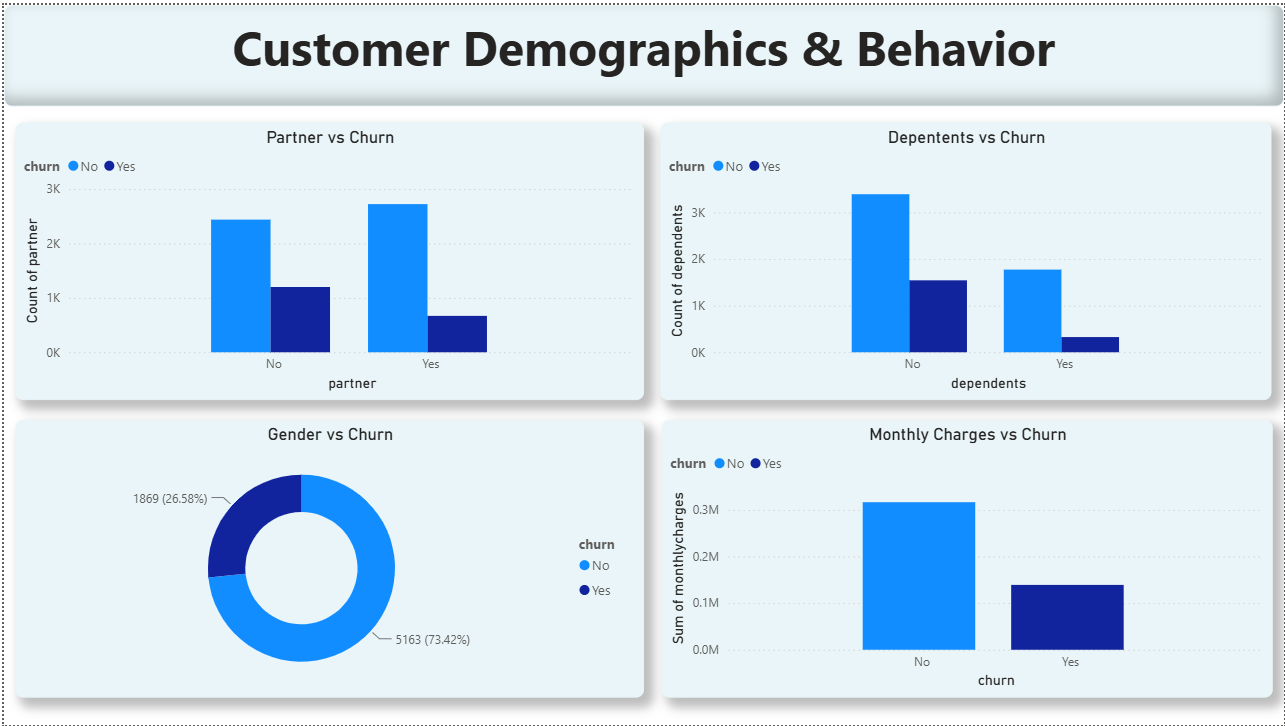

The dashboard page shown, as its layout file describes it:
{"tool":"powerbi","page":{"name":"Customer Demographics & Behavior","canvas":[1280,720],"ordinal":1},"visuals":[{"type":"clusteredColumnChart","title":"Partner vs Churn","fields":{"Series":["cleaned_telco_churn.churn"],"Category":["cleaned_telco_churn.partner"],"Y":["CountNonNull(cleaned_telco_churn.partner)"]},"box":[11.2,117.5,628.8,277.5],"z":0},{"type":"clusteredColumnChart","title":"Depentents vs Churn","fields":{"Series":["cleaned_telco_churn.churn"],"Category":["cleaned_telco_churn.dependents"],"Y":["CountNonNull(cleaned_telco_churn.dependents)"]},"box":[656.2,117.5,611.2,277.5],"z":1000},{"type":"donutChart","title":"Gender vs Churn","fields":{"Category":["cleaned_telco_churn.churn"],"Y":["CountNonNull(cleaned_telco_churn.gender)"]},"box":[11.2,415,628.8,277.5],"z":2000},{"type":"columnChart","title":"Monthly Charges vs Churn","fields":{"Category":["cleaned_telco_churn.churn"],"Y":["Sum(cleaned_telco_churn.monthlycharges)"],"Series":["cleaned_telco_churn.churn"]},"box":[657.5,415,611.2,277.5],"z":2001},{"type":"textbox","box":[0,0,1280,101.2],"z":2002}]}

Visuals, with their boxes in screenshot pixels (x1, y1, x2, y2), scaled from the page's 1280x720 canvas onto the 1285x726 screenshot:
"Partner vs Churn" clusteredColumnChart: 11,118,642,398
"Depentents vs Churn" clusteredColumnChart: 659,118,1272,398
"Gender vs Churn" donutChart: 11,418,642,698
"Monthly Charges vs Churn" columnChart: 660,418,1274,698
textbox: 0,0,1284,102
